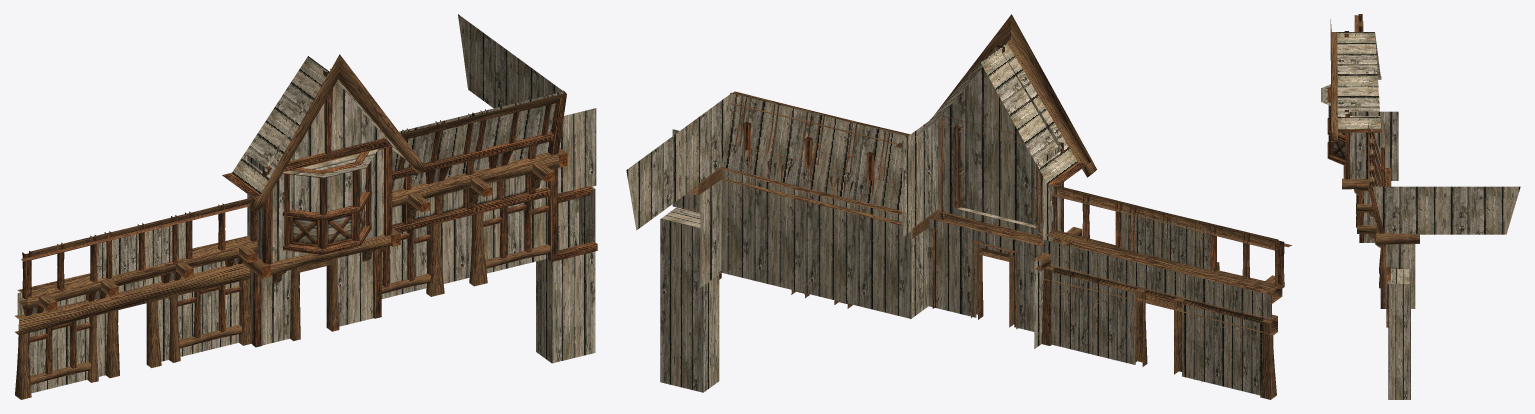
Rendered from LAKETOWN_EXTERIOR_PS_LT_HOUSEBLOCK45__GX.fbx.
3 views of the same model, side by side, from view 1: azimuth 30°, elevation 25°; view 2: azimuth 150°, elevation 25°; view 3: azimuth 270°, elevation 25° (orthographic). The views are drawn at different scales.
Visible parts, largest first — view 1: LAKETOWN_EXTERIOR_PS_LT_HOUSEBLOCK45__GX; view 2: LAKETOWN_EXTERIOR_PS_LT_HOUSEBLOCK45__GX; view 3: LAKETOWN_EXTERIOR_PS_LT_HOUSEBLOCK45__GX.
Boxes of the visible parts, x1,y1,x2,y2 form: LAKETOWN_EXTERIOR_PS_LT_HOUSEBLOCK45__GX: (15, 14, 597, 399); LAKETOWN_EXTERIOR_PS_LT_HOUSEBLOCK45__GX: (626, 14, 1291, 399); LAKETOWN_EXTERIOR_PS_LT_HOUSEBLOCK45__GX: (1321, 14, 1520, 399).
Bounding box in the file's own units: 217093 × 139034 × 88729.
11 materials, 11 textured.
